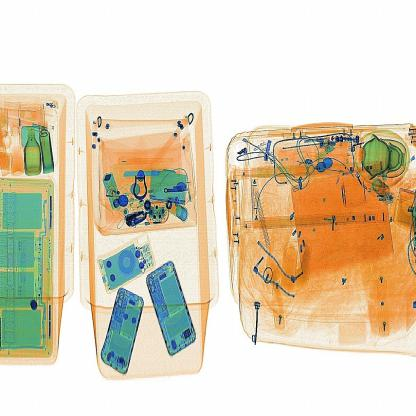pliers: (117, 164, 175, 180)
